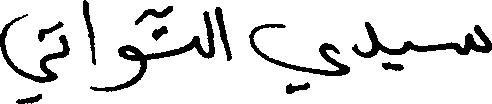X: (250, 19, 349, 98), (0, 9, 57, 103), (118, 5, 145, 94), (454, 20, 491, 59), (351, 17, 378, 62), (83, 0, 94, 95), (216, 2, 230, 65), (204, 6, 213, 63), (59, 16, 68, 62), (403, 36, 411, 73), (191, 31, 199, 58)
